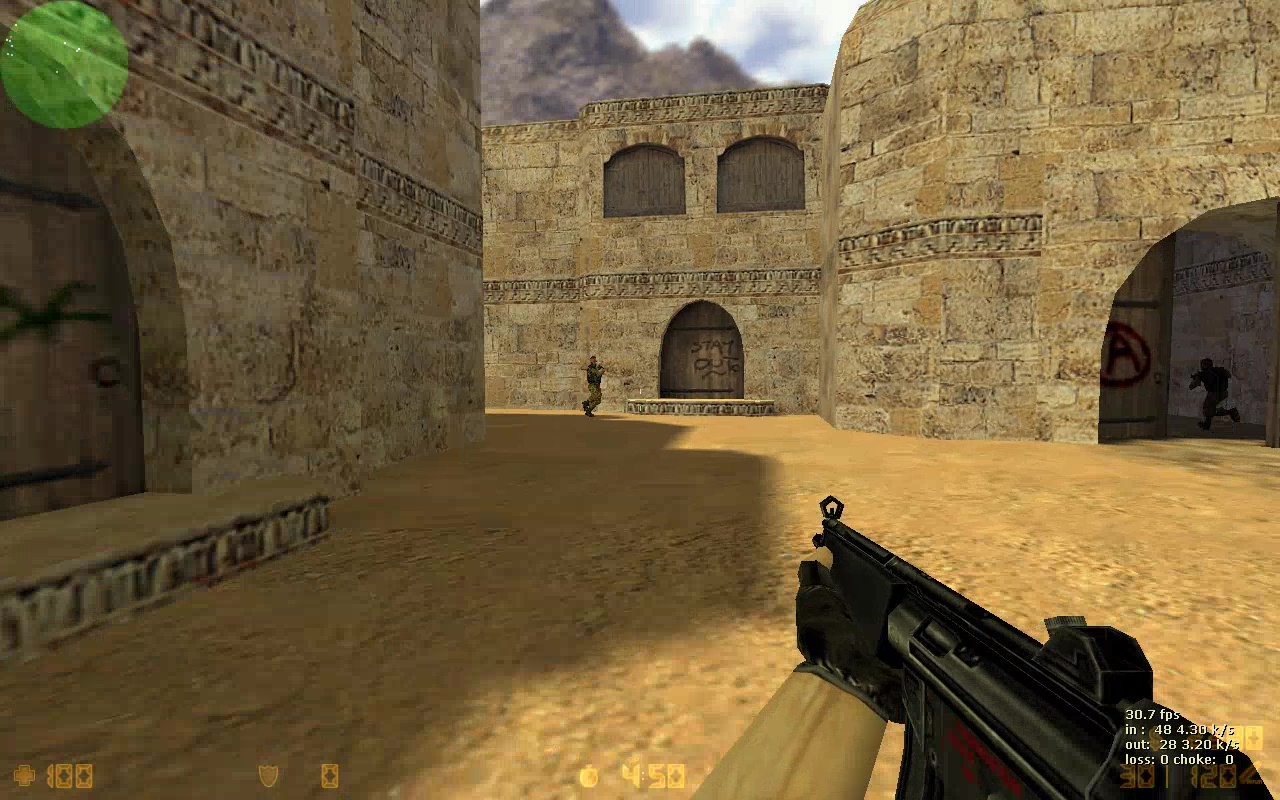terr1: (1189, 359, 1242, 430), (577, 354, 605, 419)
